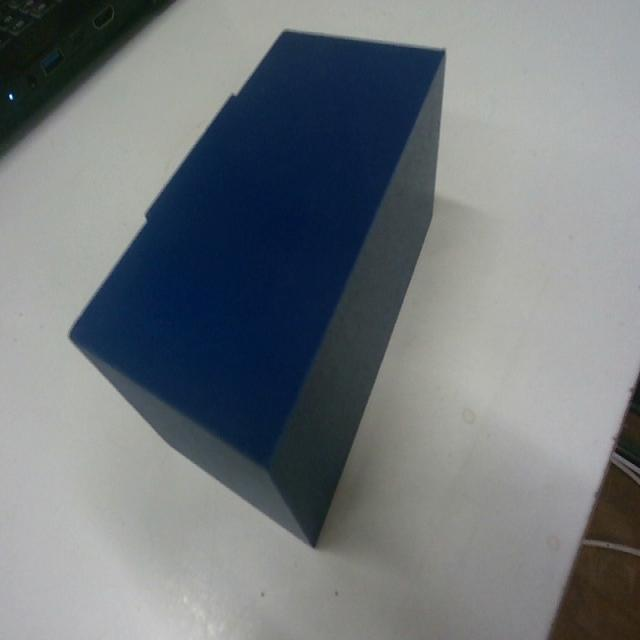Blue Cuboid: (67, 25, 447, 547)
